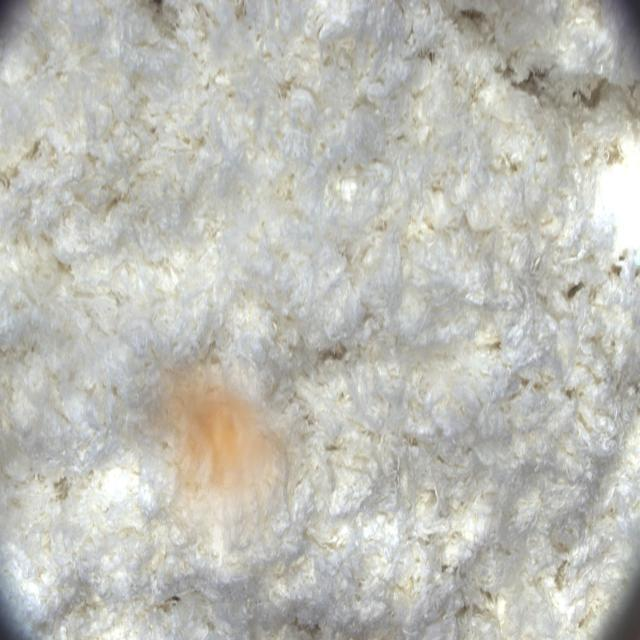dust: (128, 352, 306, 576)
